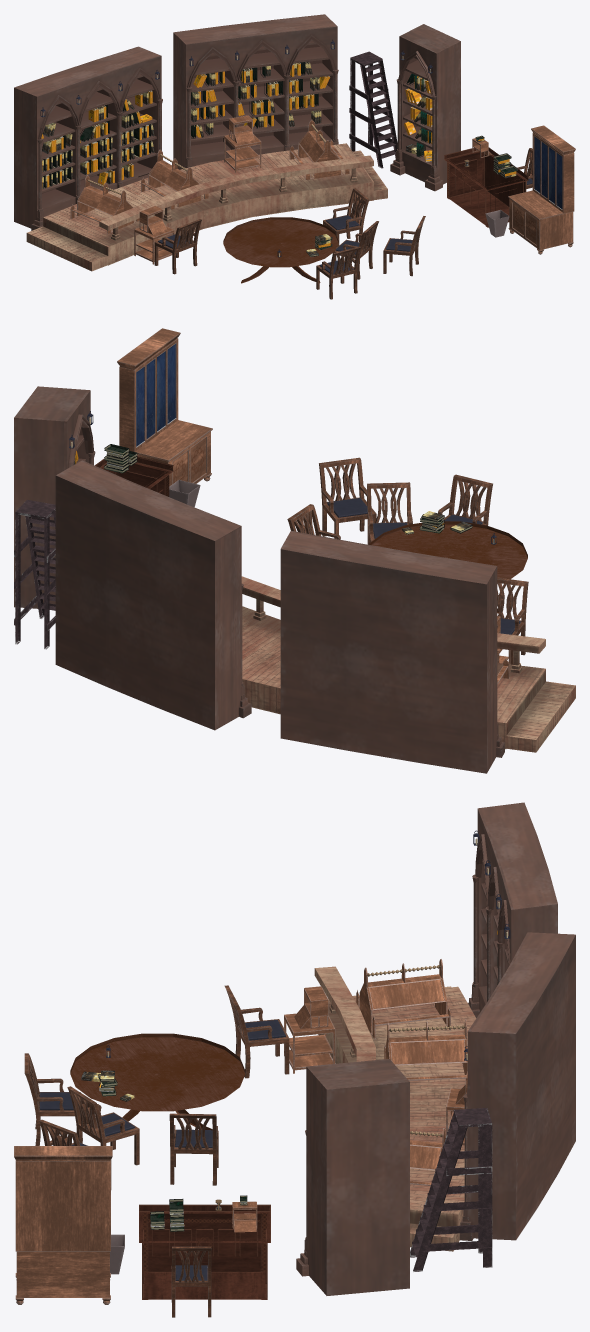
The model's file is LibraryE.obj.
3 views of the same model, one above another, from view 1: azimuth 30°, elevation 25°; view 2: azimuth 150°, elevation 25°; view 3: azimuth 270°, elevation 25° (orthographic). The views are drawn at different scales.
Visible parts, largest first — view 1: Library_shell, Library_stage2, Library_small_shell, Library_long_table, Library_chair, Library_round_table, Library_book_02, Library_book_03, Library_desk1, Library_table_02, Library_book_cover_01, Library_ladder (+4 smaller); view 2: Library_shell, Library_stage2, Library_long_table, Library_small_shell, Library_chair, Library_round_table, Library_ladder, Library_table_02, Library_page, Library_material, Library_book_03; view 3: Library_shell, Library_small_shell, Library_long_table, Library_stage2, Library_chair, Library_round_table, Library_table_02, Library_desk1, Library_ladder, Library_table, Library_book_cover_01.
Boxes of the visible parts, bbox=[...] form: Library_shell: bbox=[14, 14, 338, 230]; Library_stage2: bbox=[26, 143, 387, 271]; Library_small_shell: bbox=[390, 24, 460, 191]; Library_long_table: bbox=[508, 125, 575, 254]; Library_chair: bbox=[154, 148, 532, 299]; Library_round_table: bbox=[223, 217, 338, 283]; Library_book_02: bbox=[41, 62, 516, 247]; Library_book_03: bbox=[42, 61, 516, 256]; Library_desk1: bbox=[70, 119, 349, 234]; Library_table_02: bbox=[444, 147, 528, 227]; Library_book_cover_01: bbox=[43, 62, 517, 249]; Library_ladder: bbox=[349, 51, 397, 168]; Library_shell: bbox=[55, 460, 504, 773]; Library_stage2: bbox=[241, 576, 575, 752]; Library_long_table: bbox=[117, 328, 212, 486]; Library_small_shell: bbox=[14, 386, 95, 608]; Library_chair: bbox=[287, 457, 528, 664]; Library_round_table: bbox=[369, 521, 527, 613]; Library_ladder: bbox=[14, 499, 55, 649]; Library_table_02: bbox=[95, 456, 173, 496]; Library_page: bbox=[104, 445, 472, 534]; Library_material: bbox=[169, 480, 200, 507]; Library_book_03: bbox=[74, 455, 472, 534]; Library_shell: bbox=[459, 802, 575, 1240]; Library_small_shell: bbox=[296, 1059, 409, 1295]; Library_long_table: bbox=[14, 1146, 112, 1304]; Library_stage2: bbox=[314, 966, 476, 1251]; Library_chair: bbox=[24, 985, 289, 1317]; Library_round_table: bbox=[70, 1033, 245, 1130]; Library_table_02: bbox=[139, 1204, 270, 1299]; Library_desk1: bbox=[356, 959, 467, 1185]; Library_ladder: bbox=[410, 1108, 492, 1271]; Library_table: bbox=[232, 986, 467, 1232]; Library_book_cover_01: bbox=[98, 957, 497, 1231].
Size of the model in its own units: 31.04 by 9.38 by 23.02.
